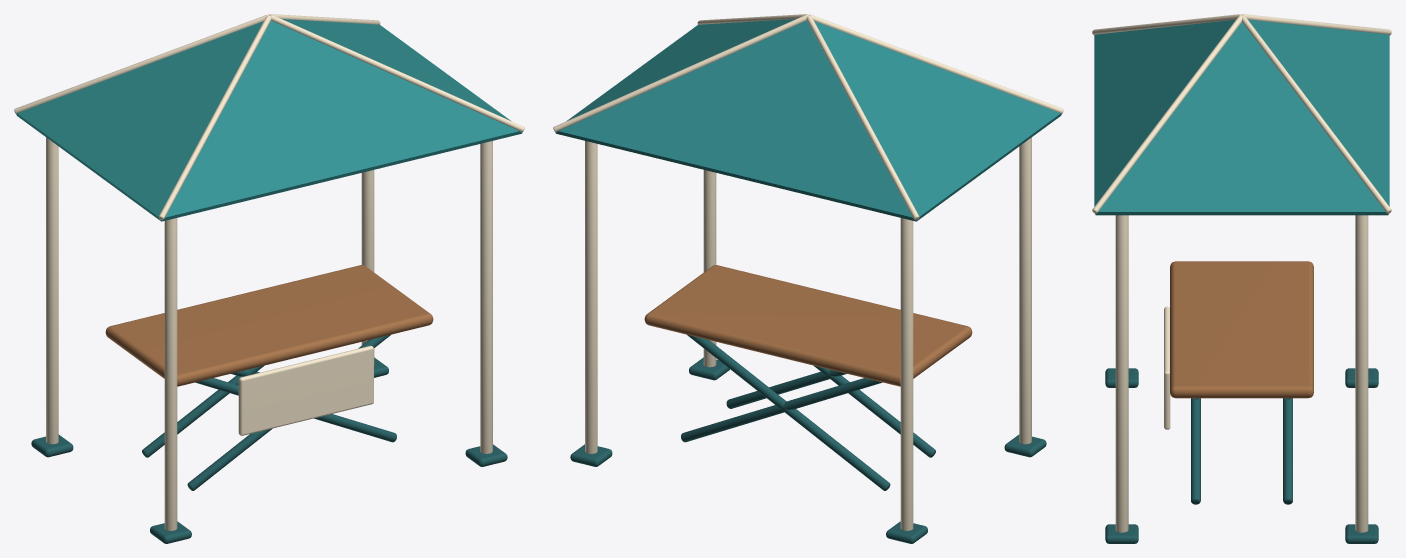
File: AidStation.fbx
3 views of the same model, side by side, from view 1: azimuth 30°, elevation 25°; view 2: azimuth 150°, elevation 25°; view 3: azimuth 270°, elevation 25° (orthographic).
Parts seen in each view (by area): view 1: YumusakTente, MasaTablasi, MasaOnEtiketi, KatlanirAyak, KatlanirAyak.002, KatlanirAyak.001, TenteDikisi.001, TenteDikisi, TenteDikisi.003, KatlanirAyak.003, MasaAyagi.002, MasaAyagi (+1 smaller); view 2: YumusakTente, MasaTablasi, KatlanirAyak.001, KatlanirAyak.003, KatlanirAyak, MasaAyagi.001, MasaAyagi.003, TenteDikisi.002, KatlanirAyak.002, TenteDikisi.003, TenteDikisi, MasaAyagi (+1 smaller); view 3: YumusakTente, MasaTablasi, KatlanirAyak.002, KatlanirAyak.003, TenteDikisi.001, TenteDikisi.002, MasaAyagi.002, MasaAyagi.003, TenteDikisi, TenteDikisi.003, MasaOnEtiketi, AyakTabani.002 (+3 smaller).
Part boxes in pixels (left/top/right/bottom): YumusakTente: left=16, top=19, right=522, bottom=221; MasaTablasi: left=105, top=265, right=433, bottom=386; MasaOnEtiketi: left=238, top=345, right=373, bottom=435; KatlanirAyak: left=164, top=218, right=177, bottom=530; KatlanirAyak.002: left=480, top=141, right=492, bottom=453; KatlanirAyak.001: left=46, top=137, right=58, bottom=444; TenteDikisi.001: left=270, top=14, right=524, bottom=132; TenteDikisi: left=158, top=15, right=271, bottom=220; TenteDikisi.003: left=14, top=14, right=268, bottom=114; KatlanirAyak.003: left=361, top=170, right=374, bottom=364; MasaAyagi.002: left=195, top=378, right=396, bottom=442; MasaAyagi: left=187, top=334, right=390, bottom=490; YumusakTente: left=555, top=19, right=1061, bottom=221; MasaTablasi: left=644, top=265, right=972, bottom=386; KatlanirAyak.001: left=900, top=218, right=913, bottom=530; KatlanirAyak.003: left=585, top=141, right=597, bottom=453; KatlanirAyak: left=1019, top=137, right=1031, bottom=444; MasaAyagi.001: left=687, top=334, right=890, bottom=490; MasaAyagi.003: left=681, top=378, right=882, bottom=442; TenteDikisi.002: left=553, top=14, right=807, bottom=132; KatlanirAyak.002: left=703, top=170, right=716, bottom=367; TenteDikisi.003: left=806, top=15, right=919, bottom=220; TenteDikisi: left=809, top=14, right=1063, bottom=114; MasaAyagi: left=813, top=365, right=935, bottom=457; YumusakTente: left=1094, top=19, right=1389, bottom=215; MasaTablasi: left=1170, top=261, right=1313, bottom=398; KatlanirAyak.002: left=1115, top=215, right=1128, bottom=532; KatlanirAyak.003: left=1355, top=215, right=1368, bottom=532; TenteDikisi.001: left=1092, top=15, right=1241, bottom=213; TenteDikisi.002: left=1242, top=15, right=1391, bottom=213; MasaAyagi.002: left=1191, top=398, right=1200, bottom=504; MasaAyagi.003: left=1283, top=398, right=1292, bottom=504; TenteDikisi: left=1092, top=14, right=1241, bottom=35; TenteDikisi.003: left=1242, top=14, right=1391, bottom=35; MasaOnEtiketi: left=1164, top=306, right=1170, bottom=429; AyakTabani.002: left=1105, top=524, right=1138, bottom=543.
Bounding box in the file's own units: 232 × 266 × 162.
